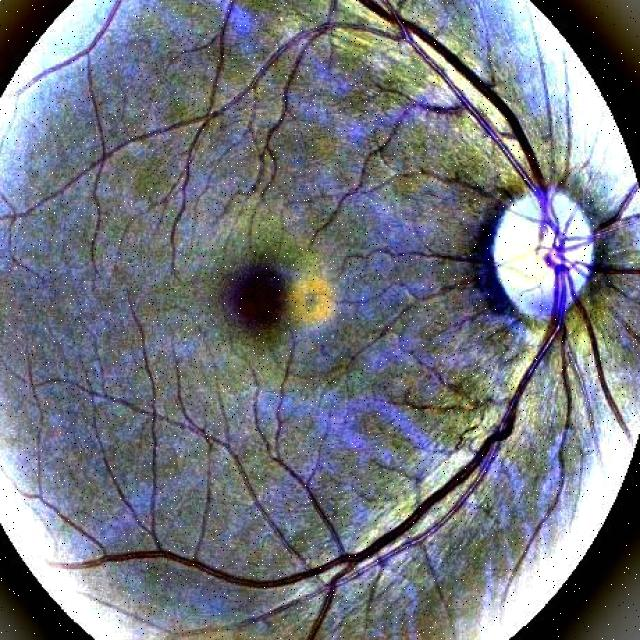Macula: (199, 238, 357, 358)
Nerves: (73, 184, 599, 640)
Optic Disk: (453, 177, 636, 350)
